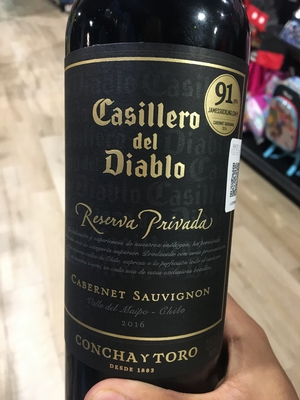casillero del diablo reserva privada cabernet sauvignon: (59, 1, 264, 397)
